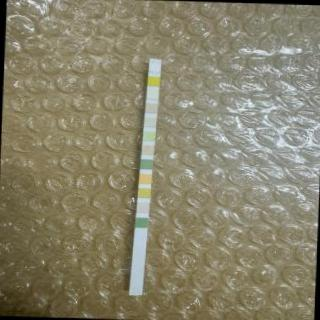mark: (142, 130, 154, 142), (138, 188, 151, 198), (139, 174, 152, 184), (145, 103, 156, 114), (136, 217, 148, 227), (136, 202, 148, 212), (140, 159, 152, 169), (141, 145, 153, 155), (144, 116, 154, 128), (146, 90, 157, 100), (148, 76, 160, 85), (149, 63, 161, 72)
